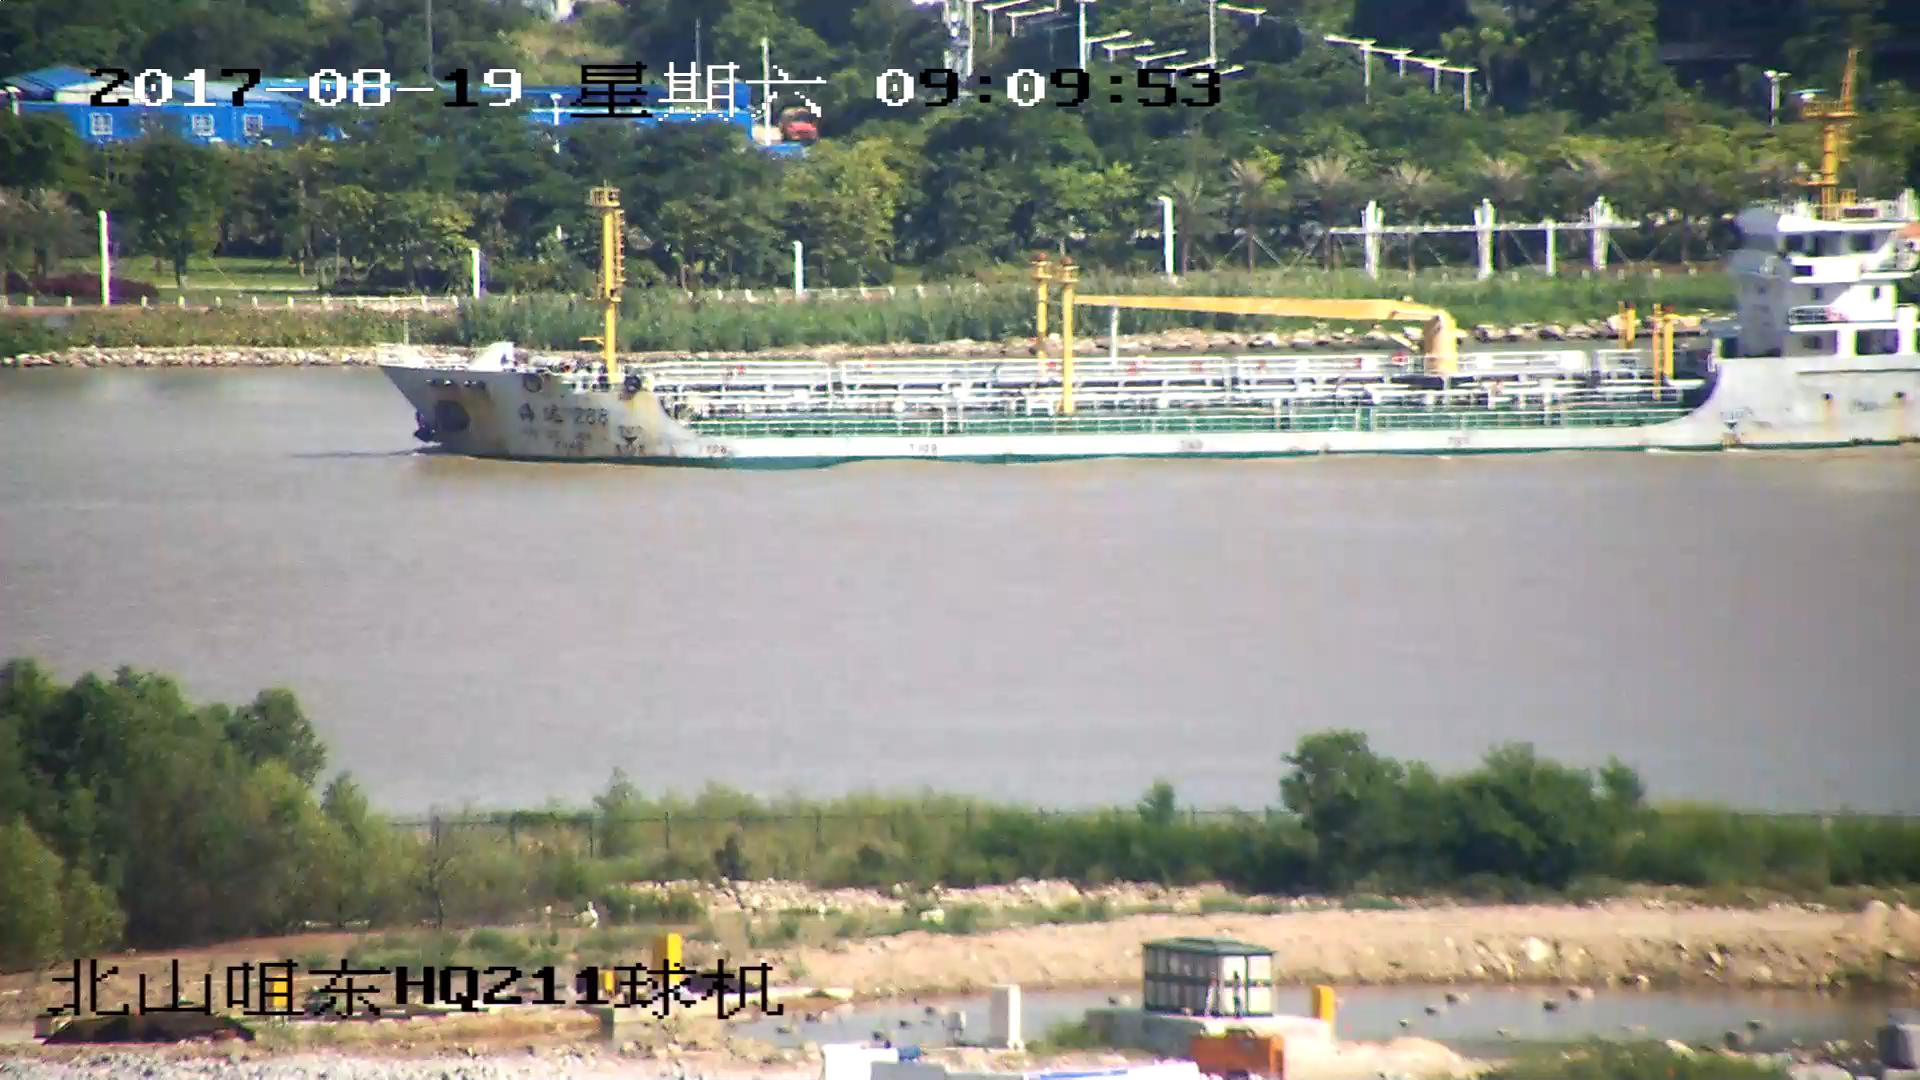general cargo ship: (389, 134, 1920, 461)
